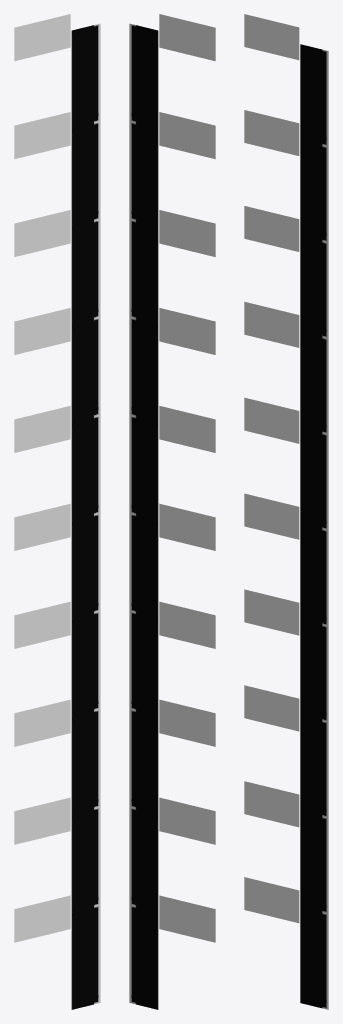
Rendered from Ruler00_mdl.fbx.
The picture shows the model from 3 angles, left to right: view 1: azimuth 30°, elevation 25°; view 2: azimuth 150°, elevation 25°; view 3: azimuth 330°, elevation 25°; orthographic projection. The views are drawn at different scales.
Visible parts, largest first — view 1: Ruler00, Ruler00_Num02, Ruler00_Num03, Ruler00_Num07, Ruler00_Num04, Ruler00_Num01, Ruler00_Num09, Ruler00_Num05, Ruler00_Num06, Ruler00_Num08, Ruler00_Num10; view 2: Ruler00, Ruler00_Num02, Ruler00_Num03, Ruler00_Num07, Ruler00_Num04, Ruler00_Num01, Ruler00_Num09, Ruler00_Num05, Ruler00_Num06, Ruler00_Num08, Ruler00_Num10; view 3: Ruler00, Ruler00_Num03, Ruler00_Num05, Ruler00_Num01, Ruler00_Num06, Ruler00_Num08, Ruler00_Num10, Ruler00_Num04, Ruler00_Num07, Ruler00_Num02, Ruler00_Num09.
Boxes of the visible parts, box(x1,y1,x2,y2) form: Ruler00: box(71, 23, 100, 1009); Ruler00_Num02: box(14, 797, 70, 844); Ruler00_Num03: box(14, 699, 70, 746); Ruler00_Num07: box(14, 308, 70, 354); Ruler00_Num04: box(14, 601, 70, 648); Ruler00_Num01: box(14, 895, 70, 942); Ruler00_Num09: box(14, 112, 70, 159); Ruler00_Num05: box(14, 503, 70, 550); Ruler00_Num06: box(14, 406, 70, 452); Ruler00_Num08: box(14, 210, 70, 256); Ruler00_Num10: box(14, 14, 70, 61); Ruler00: box(129, 23, 158, 1009); Ruler00_Num02: box(159, 797, 215, 844); Ruler00_Num03: box(159, 699, 215, 746); Ruler00_Num07: box(159, 308, 215, 354); Ruler00_Num04: box(159, 601, 215, 648); Ruler00_Num01: box(159, 895, 215, 942); Ruler00_Num09: box(159, 112, 215, 159); Ruler00_Num05: box(159, 503, 215, 550); Ruler00_Num06: box(159, 406, 215, 452); Ruler00_Num08: box(159, 210, 215, 256); Ruler00_Num10: box(159, 14, 215, 61); Ruler00: box(300, 44, 328, 1009); Ruler00_Num03: box(244, 685, 299, 731); Ruler00_Num05: box(244, 493, 299, 539); Ruler00_Num01: box(244, 877, 299, 923); Ruler00_Num06: box(244, 397, 299, 443); Ruler00_Num08: box(244, 206, 299, 251); Ruler00_Num10: box(244, 14, 299, 60); Ruler00_Num04: box(244, 589, 299, 635); Ruler00_Num07: box(244, 301, 299, 347); Ruler00_Num02: box(244, 781, 299, 827); Ruler00_Num09: box(244, 110, 299, 155).
Bounding box in the file's own units: 0.9218 × 10.17 × 5.24e-10.
